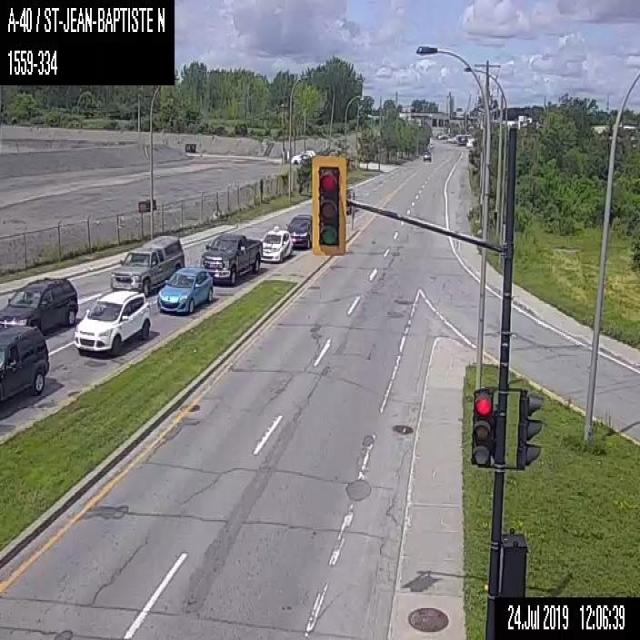vehicle: (76, 289, 150, 354), (110, 234, 184, 296), (0, 276, 76, 330), (0, 325, 47, 402), (199, 233, 262, 286), (156, 266, 212, 314), (259, 224, 293, 262), (285, 213, 312, 248), (290, 149, 316, 163), (422, 151, 430, 161)
